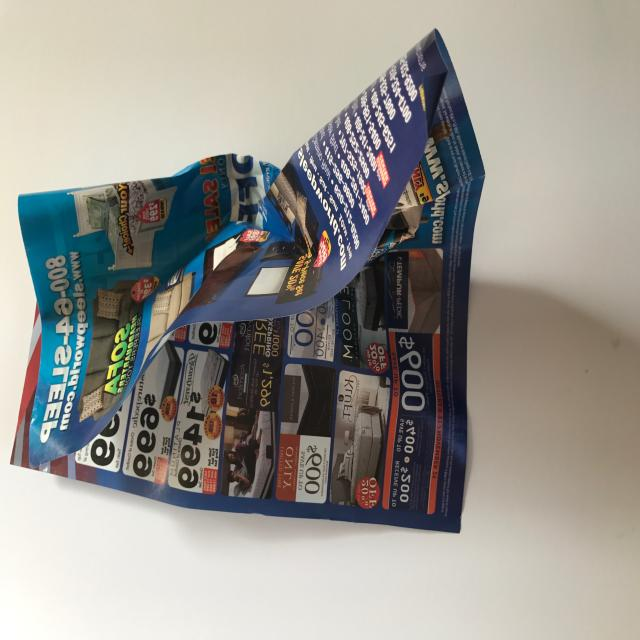paper: (0, 8, 504, 595)
